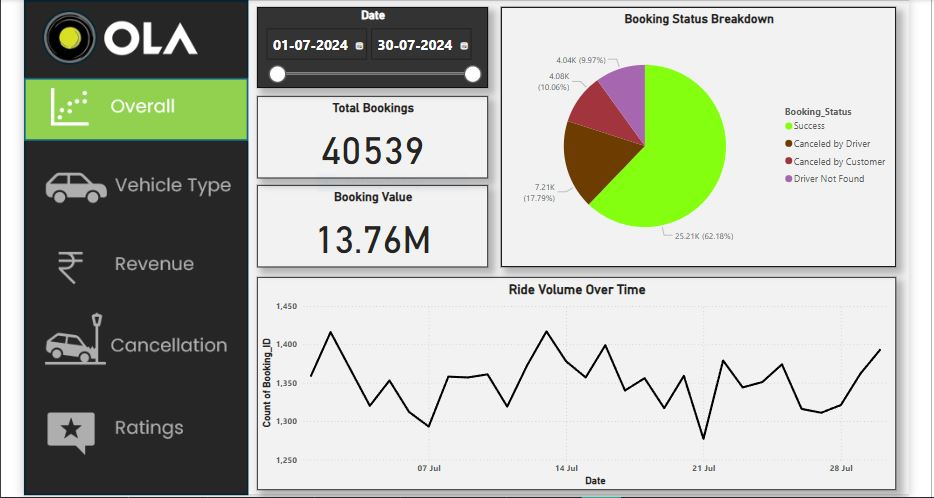

What the dashboard file says about the page in this screenshot:
{"tool":"powerbi","page":{"name":"Overall","canvas":[1280,720],"ordinal":0},"visuals":[{"type":"actionButton","box":[0,222.7,326.7,92.5],"z":0},{"type":"actionButton","box":[0,344.1,326.7,92.5],"z":1000},{"type":"actionButton","box":[0,451.1,326.7,92.5],"z":2000},{"type":"actionButton","box":[0,571.1,326.7,92.5],"z":3000},{"type":"pieChart","title":"Booking Status Breakdown","fields":{"Category":["OlaData.Booking_Status"],"Y":["CountNonNull(OlaData.Booking_Status)"]},"box":[691.1,11.6,571.1,375.9],"z":4000},{"type":"card","title":"Total Bookings","fields":{"Values":["CountNonNull(OlaData.Booking_ID)"]},"box":[338.3,140.2,334,118.6],"z":5000},{"type":"card","title":"Booking Value","fields":{"Values":["Sum(OlaData.Booking_Value)"]},"box":[338.3,268.9,334,118.6],"z":6000},{"type":"lineChart","title":"Ride Volume Over Time","fields":{"Y":["CountNonNull(OlaData.Booking_ID)"],"Category":["OlaData.Date_"]},"box":[338.3,401.9,923.9,308],"z":7000},{"type":"slicer","title":"Date","fields":{"Values":["OlaData.Date_"]},"box":[338.3,11.6,334,117.1],"z":8000}]}

Visuals, with their boxes on the page's 1280x720 design canvas (x1, y1, x2, y2). These are canvas units, not pixel positions in the 934x498 screenshot, which may show the page scaled, cropped or inside an application window:
actionButton: 0, 223, 327, 315
actionButton: 0, 344, 327, 437
actionButton: 0, 451, 327, 544
actionButton: 0, 571, 327, 664
"Booking Status Breakdown" pieChart: 691, 12, 1262, 388
"Total Bookings" card: 338, 140, 672, 259
"Booking Value" card: 338, 269, 672, 388
"Ride Volume Over Time" lineChart: 338, 402, 1262, 710
"Date" slicer: 338, 12, 672, 129
